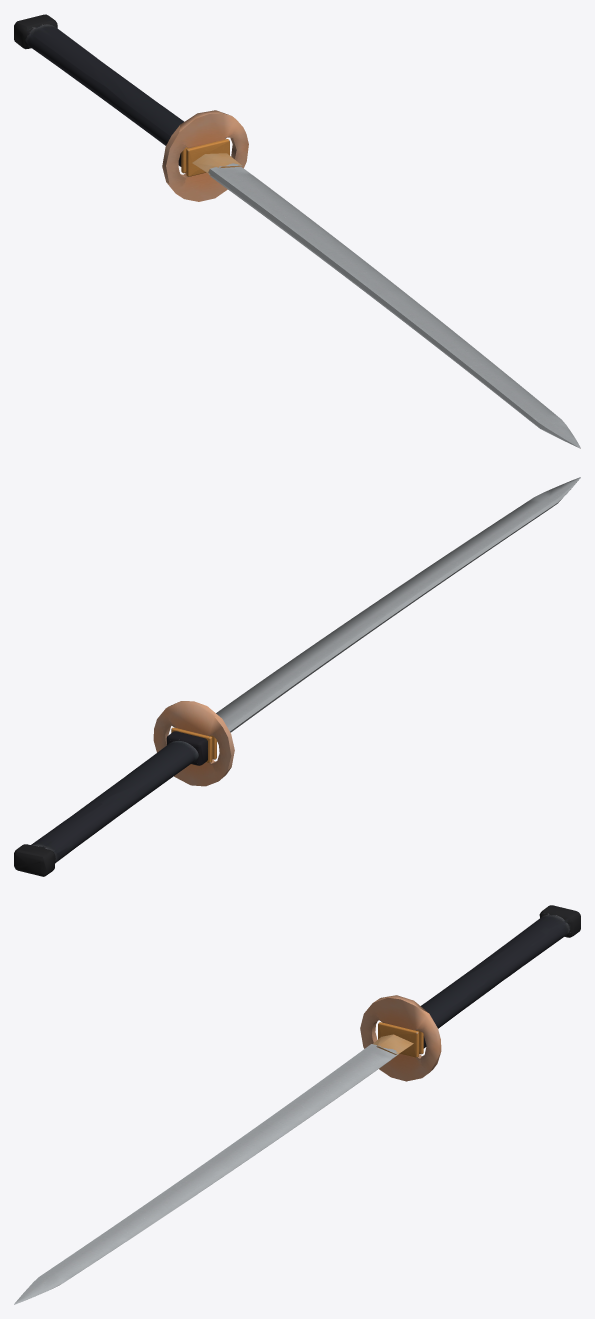
Rendered from katana_game.glb.
3 views of the same model, one above another, from view 1: azimuth 30°, elevation 25°; view 2: azimuth 150°, elevation 25°; view 3: azimuth 330°, elevation 25° (orthographic). The views are drawn at different scales.
Parts seen in each view (by area): view 1: SM_katana_Body; view 2: SM_katana_Body; view 3: SM_katana_Body.
Boxes of the visible parts, x1,y1,x2,y2 form: SM_katana_Body: (14,14,580,448); SM_katana_Body: (14,477,580,876); SM_katana_Body: (14,905,580,1304).
Size of the model in its own units: 0.0825 by 0.0823 by 0.98.
Materials: 1 (1 with a texture image).
